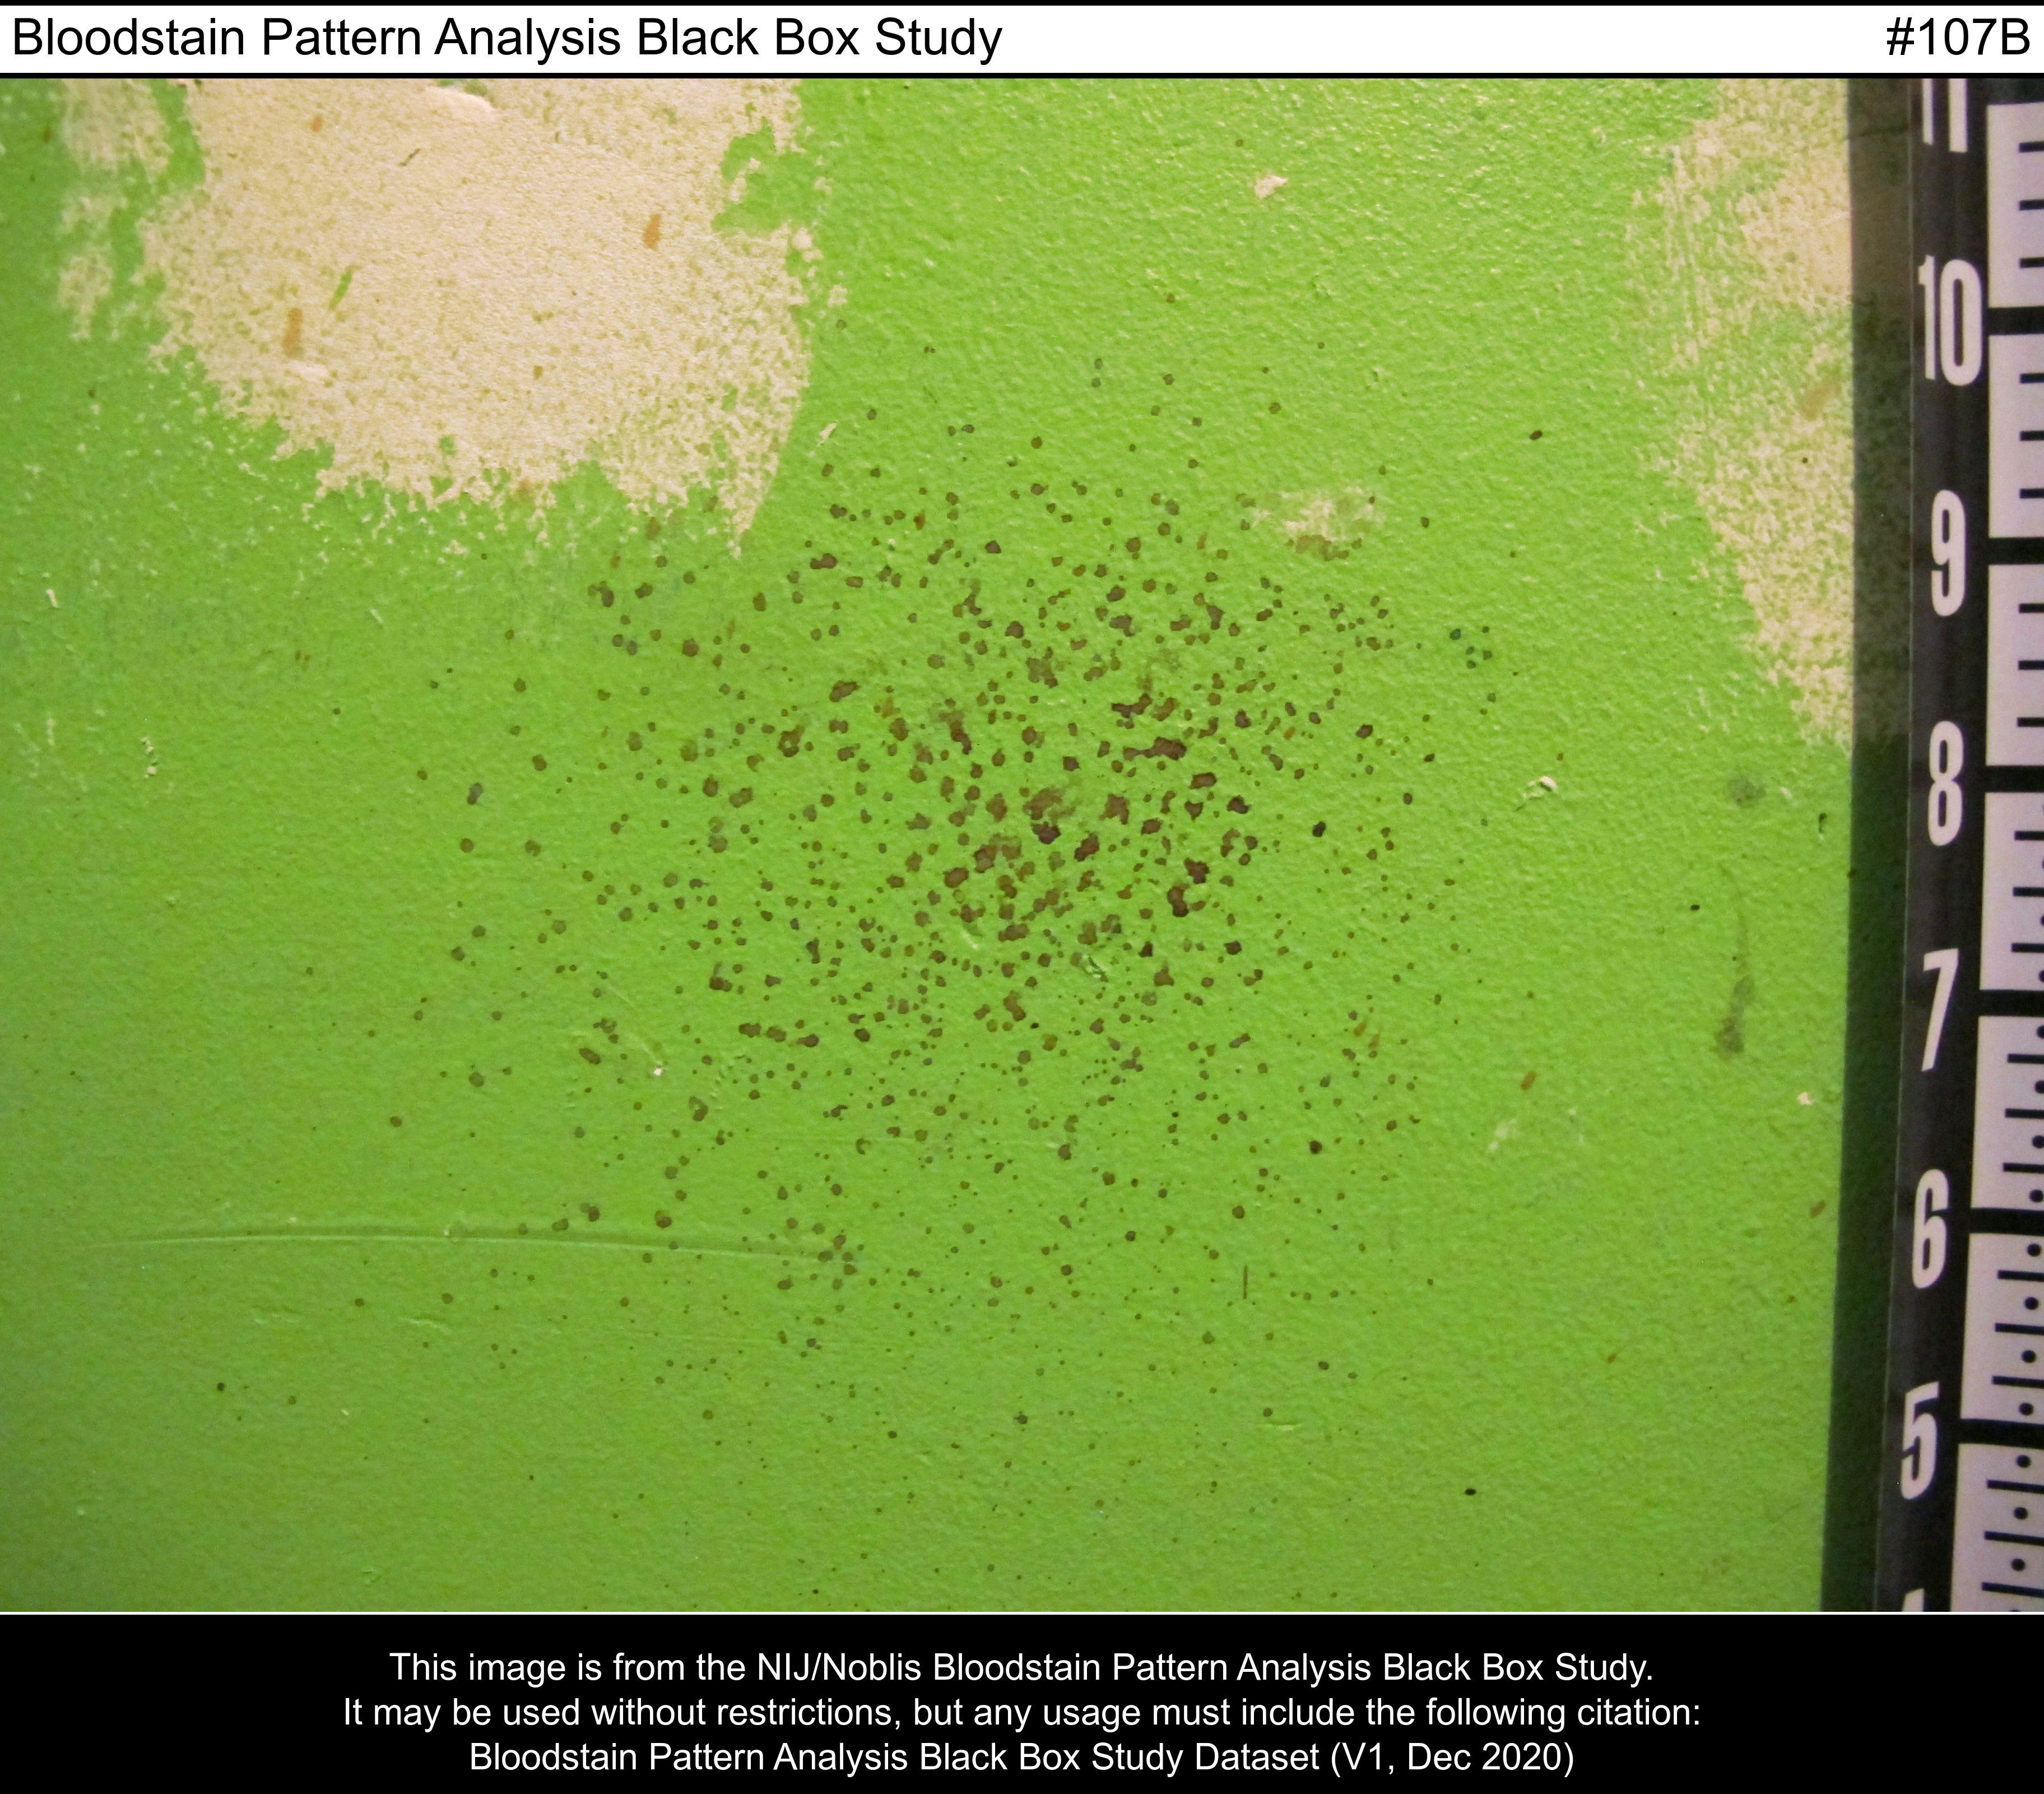Impact: (356, 301, 1609, 1441)
